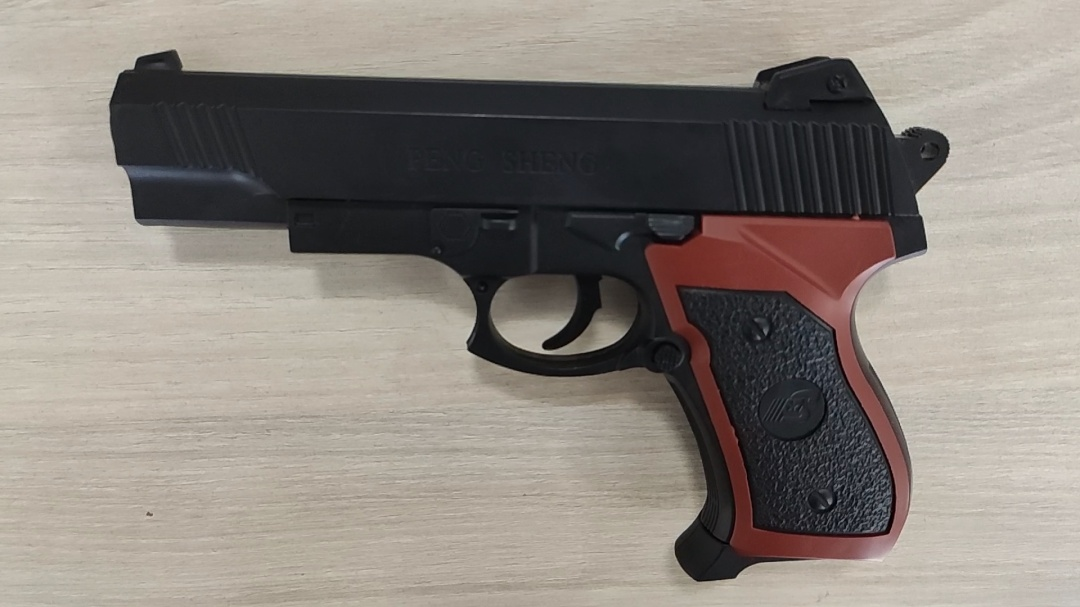gun: (107, 45, 948, 582)
